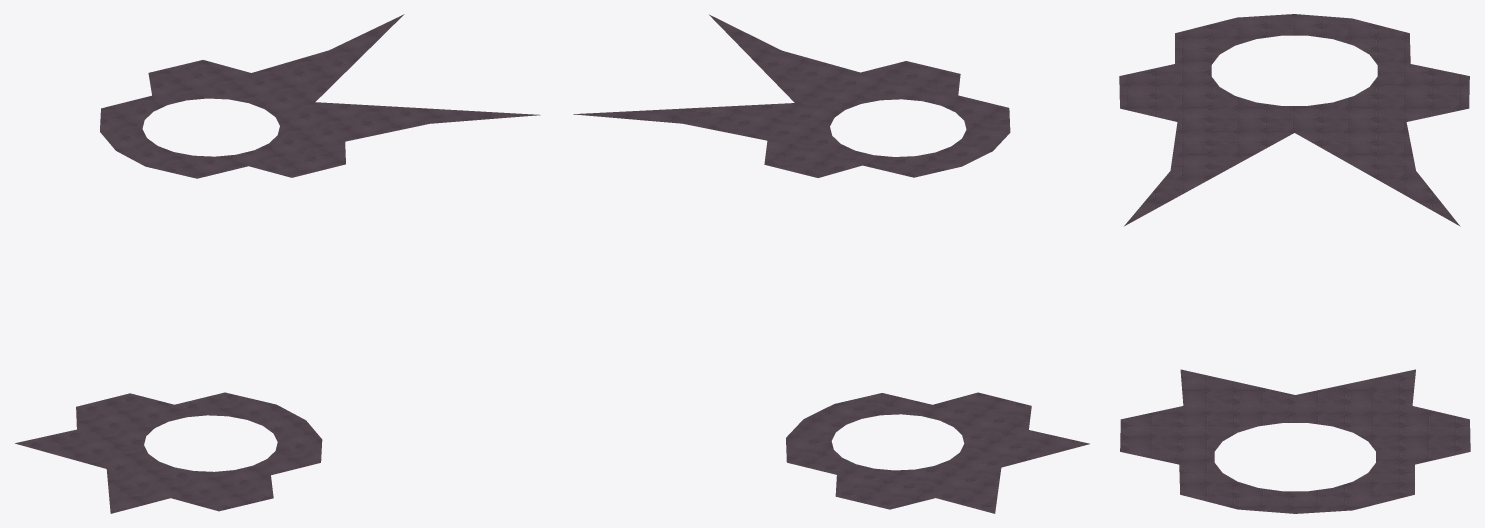
Rendered from SD_xs_dimian05.FBX.
The picture shows the model from 3 angles, left to right: view 1: azimuth 30°, elevation 25°; view 2: azimuth 150°, elevation 25°; view 3: azimuth 270°, elevation 25°; orthographic projection. The views are drawn at different scales.
Parts seen in each view (by area): view 1: SD_xs_dimian05; view 2: SD_xs_dimian05; view 3: SD_xs_dimian05.
Part boxes in pixels (<box>): SD_xs_dimian05: <box>15,14,540,513</box>; SD_xs_dimian05: <box>573,14,1089,513</box>; SD_xs_dimian05: <box>1119,14,1470,513</box>.
Size of the model in its own units: 695 by 514 by 424.
1 material, 1 textured.
